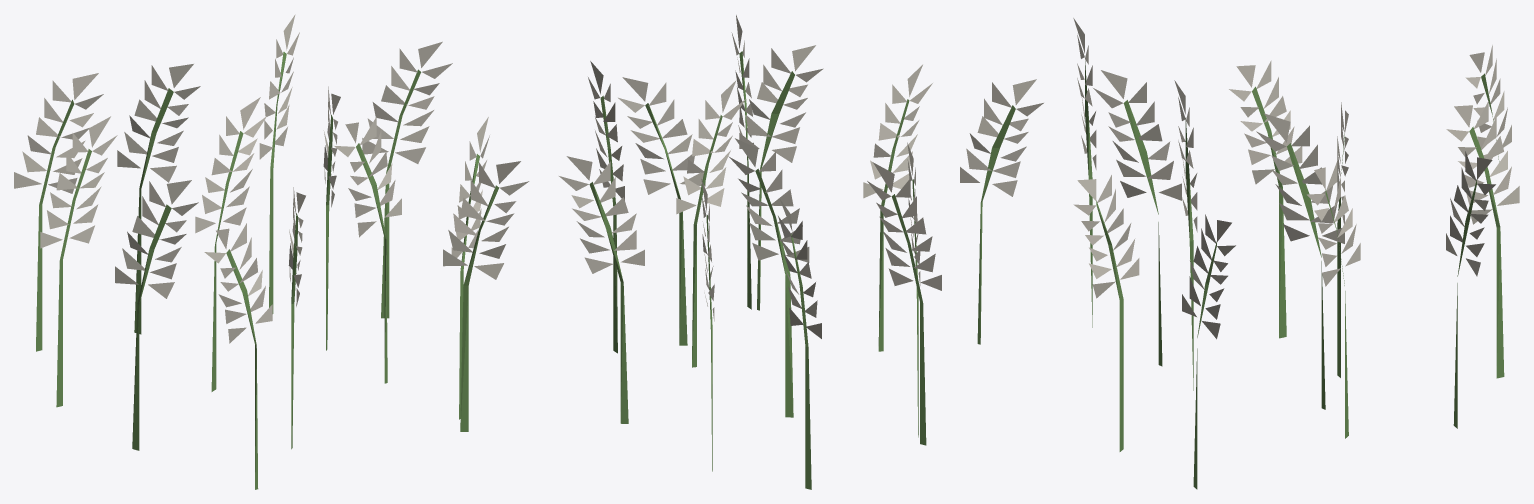
File: obj_wheat_0.obj
3 views of the same model, side by side, from view 1: azimuth 30°, elevation 25°; view 2: azimuth 150°, elevation 25°; view 3: azimuth 270°, elevation 25° (orthographic). The views are drawn at different scales.
Size of the model in its own units: 0.9453 by 0.7656 by 0.8984.
